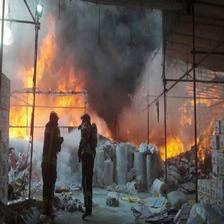fire: (10, 20, 158, 133), (164, 87, 208, 166)
